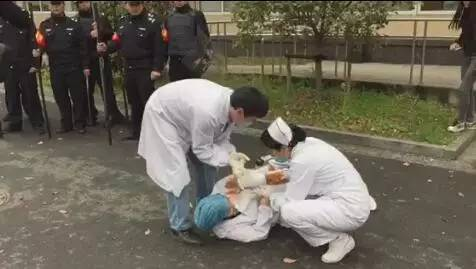fall: (191, 159, 290, 248)
